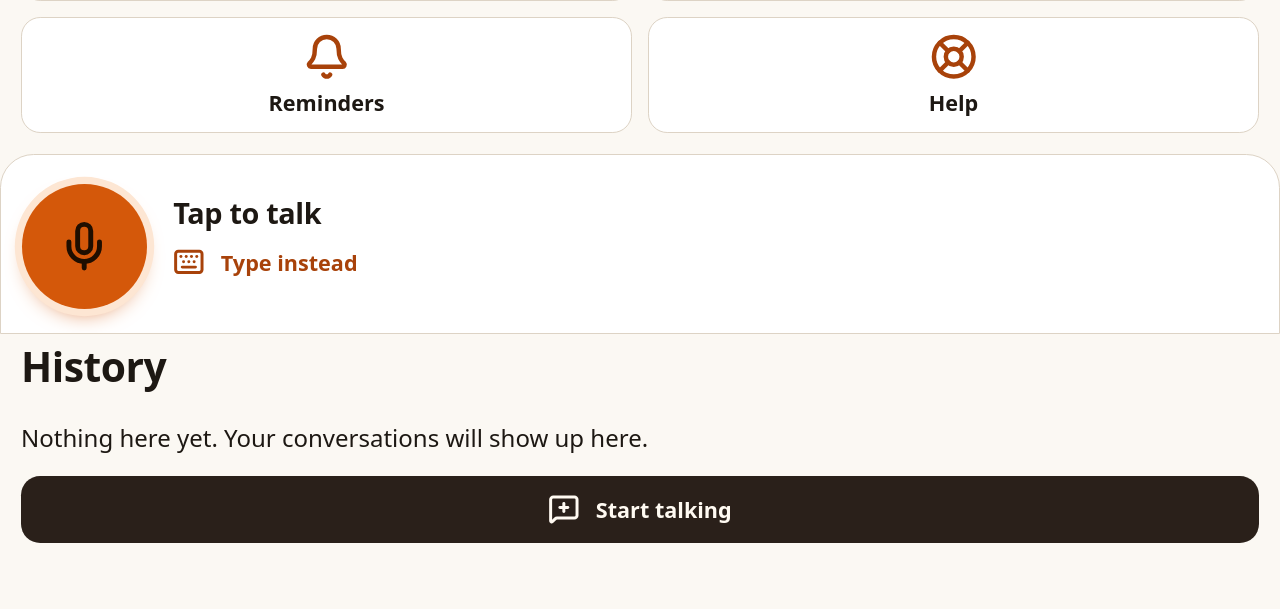
Scenario: history and privacy › saves conversations on the device and lists them
(page scrolled)
Click the button "Type instead" at (265, 262), box [158,229,373,296]
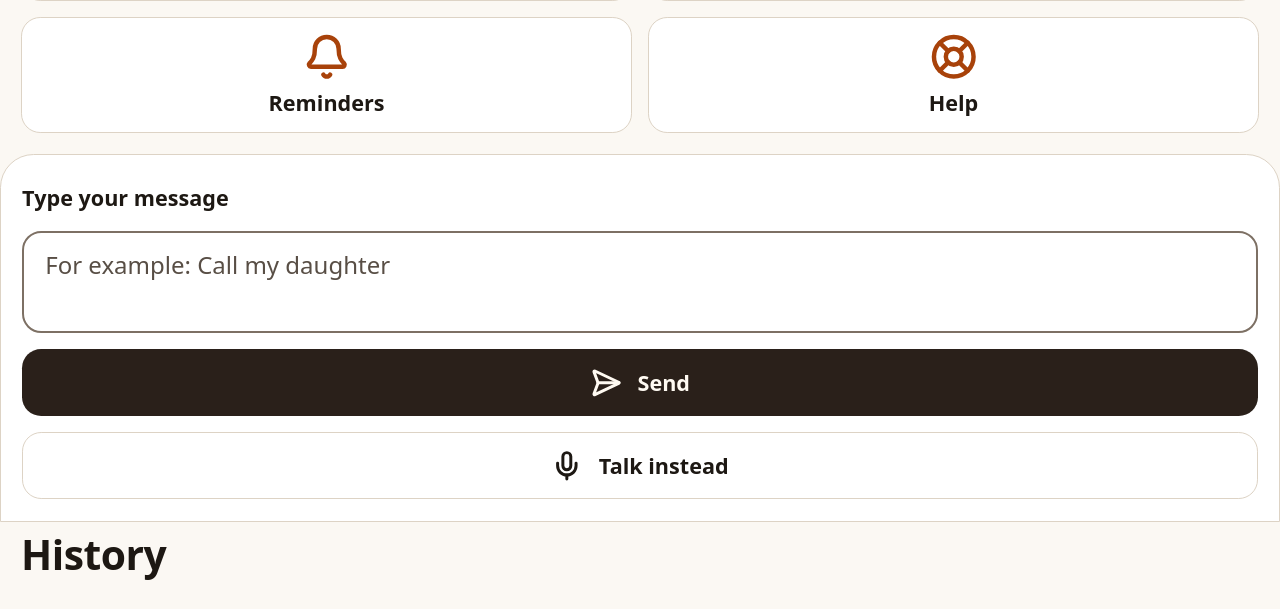
Type "Remind me about pills" into the text box labelled "Type your message" at (640, 282), box [22,230,1258,333]
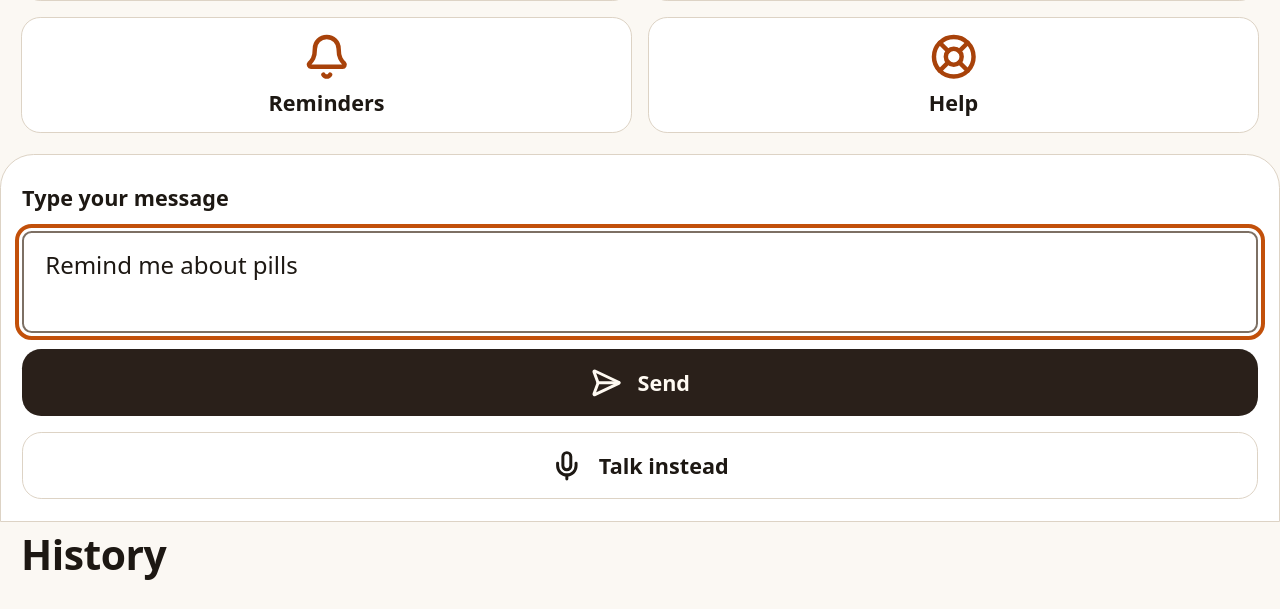
Click the button "Send" at (640, 383), box [22,349,1258,416]
(page scrolled)
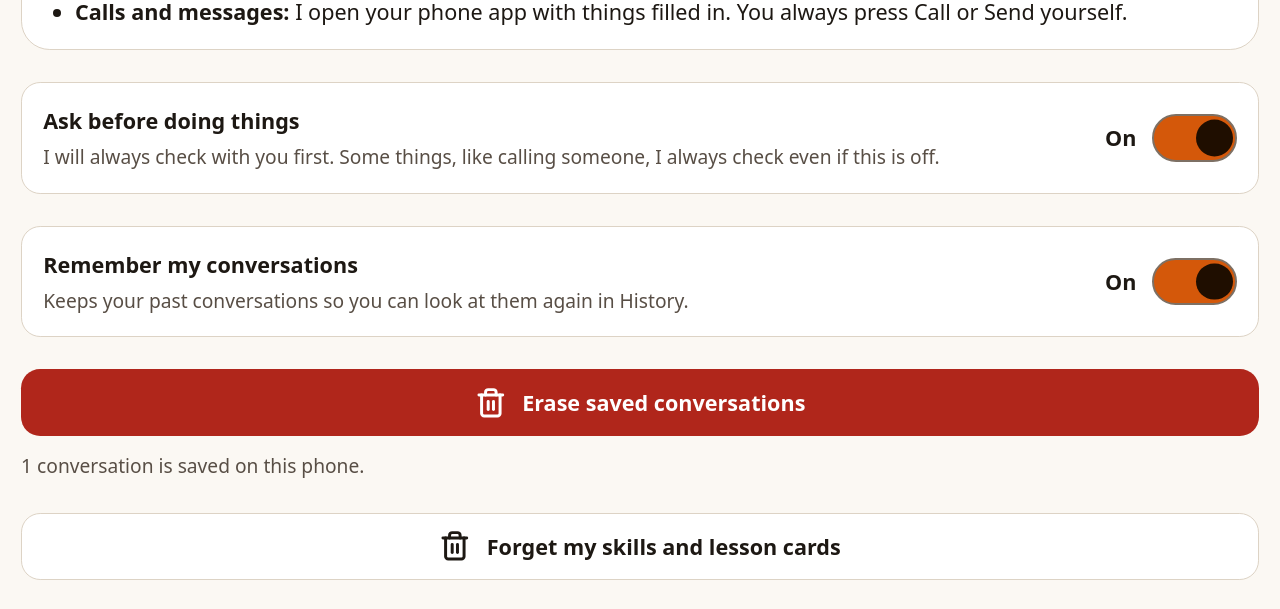
Expected: the text "1 conversation is saved on this phone." is shown, [21,452,364,479]
